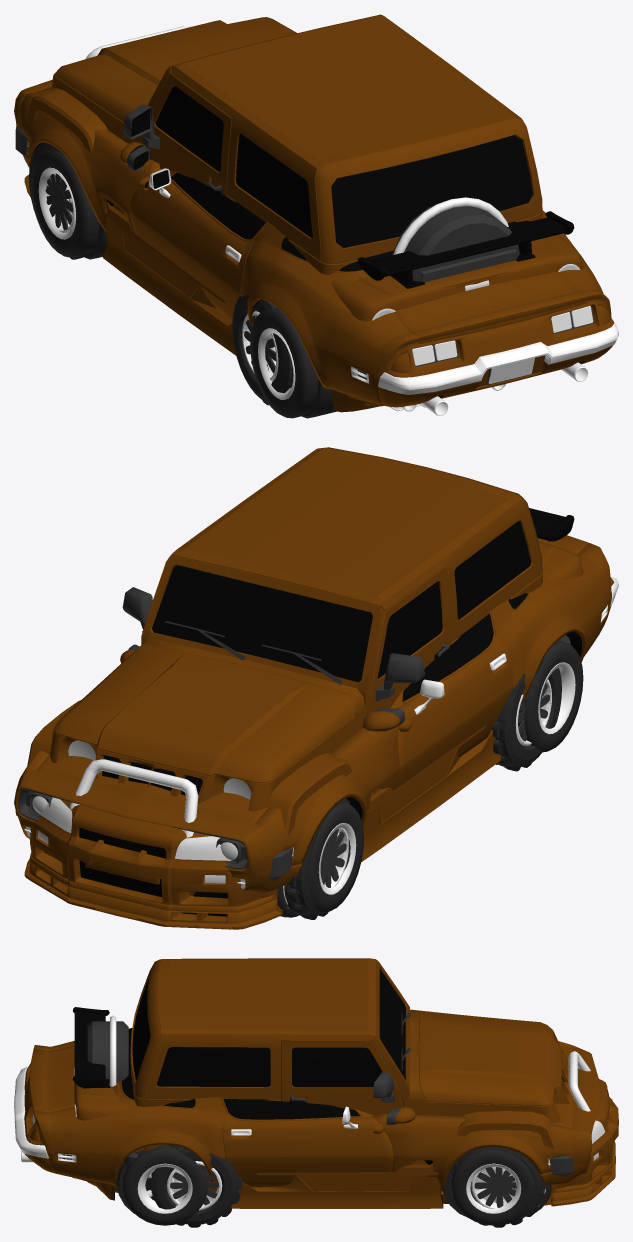
Rendered from Vehicles.fbx.
3 views of the same model, one above another, from view 1: azimuth 30°, elevation 25°; view 2: azimuth 150°, elevation 25°; view 3: azimuth 270°, elevation 25° (orthographic). The views are drawn at different scales.
Visible parts, largest first — view 1: Offroad Car, Drag Car, Drift Car, Track Car, DragWheels_RL, DragWheels_FL, OffroadWheels_RL, OffroadWheels_FL, TrackWheels_RL, Road Car; view 2: Offroad Car, Drag Car, Drift Car, Track Car, DragWheels_RL, OffroadWheels_RL, DragWheels_FL, OffroadWheels_FL, Road Car; view 3: Offroad Car, Drag Car, Drift Car, Track Car, DragWheels_RR, DragWheels_FR, OffroadWheels_RR, OffroadWheels_FR, Road Car.
Part boxes in pixels (x1,y1,x2,y2): Offroad Car: (15, 14, 542, 302); Drag Car: (14, 79, 618, 415); Drift Car: (24, 146, 583, 411); Track Car: (102, 176, 505, 412); DragWheels_RL: (250, 307, 318, 418); DragWheels_FL: (31, 149, 98, 257); OffroadWheels_RL: (232, 294, 293, 405); OffroadWheels_FL: (29, 142, 98, 259); TrackWheels_RL: (302, 379, 337, 418); Road Car: (120, 142, 508, 406); Offroad Car: (15, 447, 570, 880); Drag Car: (14, 535, 618, 892); Drift Car: (24, 508, 583, 929); Track Car: (266, 634, 567, 911); DragWheels_RL: (518, 640, 583, 752); OffroadWheels_RL: (489, 656, 561, 771); DragWheels_FL: (308, 802, 363, 912); OffroadWheels_FL: (285, 798, 350, 919); Road Car: (79, 649, 400, 898); Offroad Car: (87, 958, 595, 1176); Drag Car: (14, 1028, 601, 1191); Drift Car: (72, 1007, 618, 1206); Track Car: (93, 1124, 561, 1208); DragWheels_RR: (123, 1145, 207, 1225); DragWheels_FR: (451, 1150, 534, 1225); OffroadWheels_RR: (146, 1145, 242, 1227); OffroadWheels_FR: (451, 1147, 546, 1227); Road Car: (87, 1107, 566, 1203).
Bounding box in the file's own units: 211 × 170 × 501.
